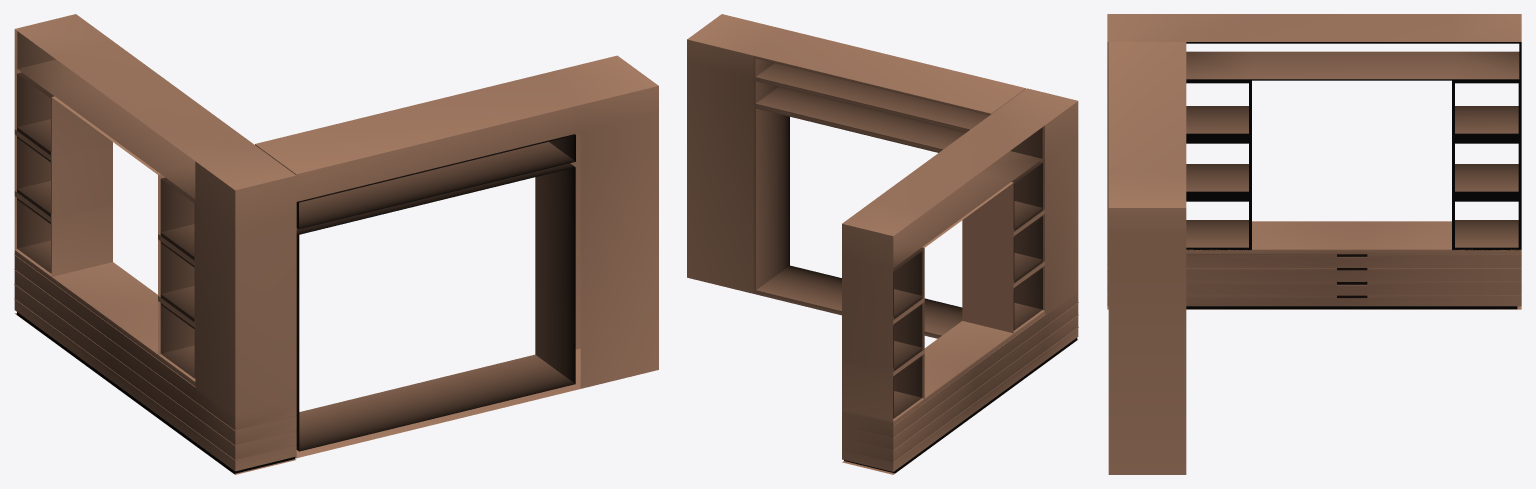
The model's file is Wardrobe.fbx.
3 views of the same model, side by side, from view 1: azimuth 30°, elevation 25°; view 2: azimuth 150°, elevation 25°; view 3: azimuth 270°, elevation 25° (orthographic). The views are drawn at different scales.
Visible parts, largest first — view 1: Cube.027; view 2: Cube.027; view 3: Cube.027.
Part boxes in pixels (<box>): Cube.027: <box>14,14,658,474</box>; Cube.027: <box>687,14,1078,474</box>; Cube.027: <box>1107,14,1521,474</box>.
Bounding box in the file's own units: 22.73 × 25.28 × 16.21.
